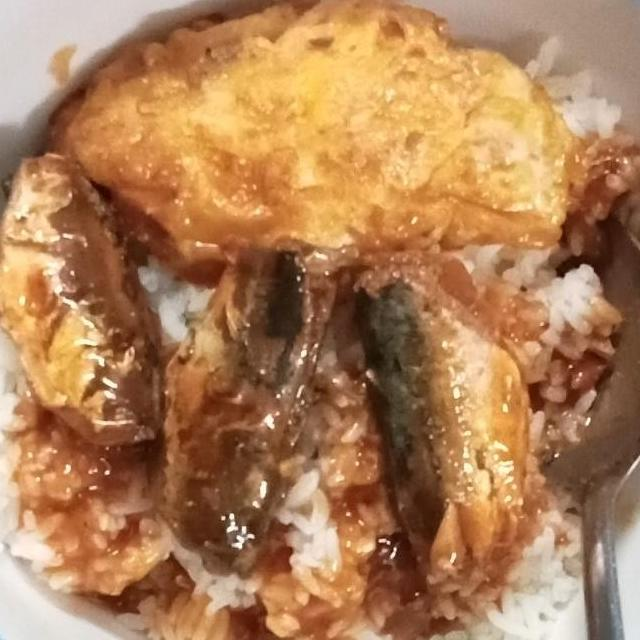ca: (144, 232, 352, 580), (338, 244, 535, 592), (0, 145, 179, 448)
com: (0, 297, 182, 604), (262, 307, 415, 611), (433, 232, 626, 462), (120, 533, 444, 640), (517, 26, 640, 259), (436, 496, 604, 640)
trung: (29, 0, 583, 290)
